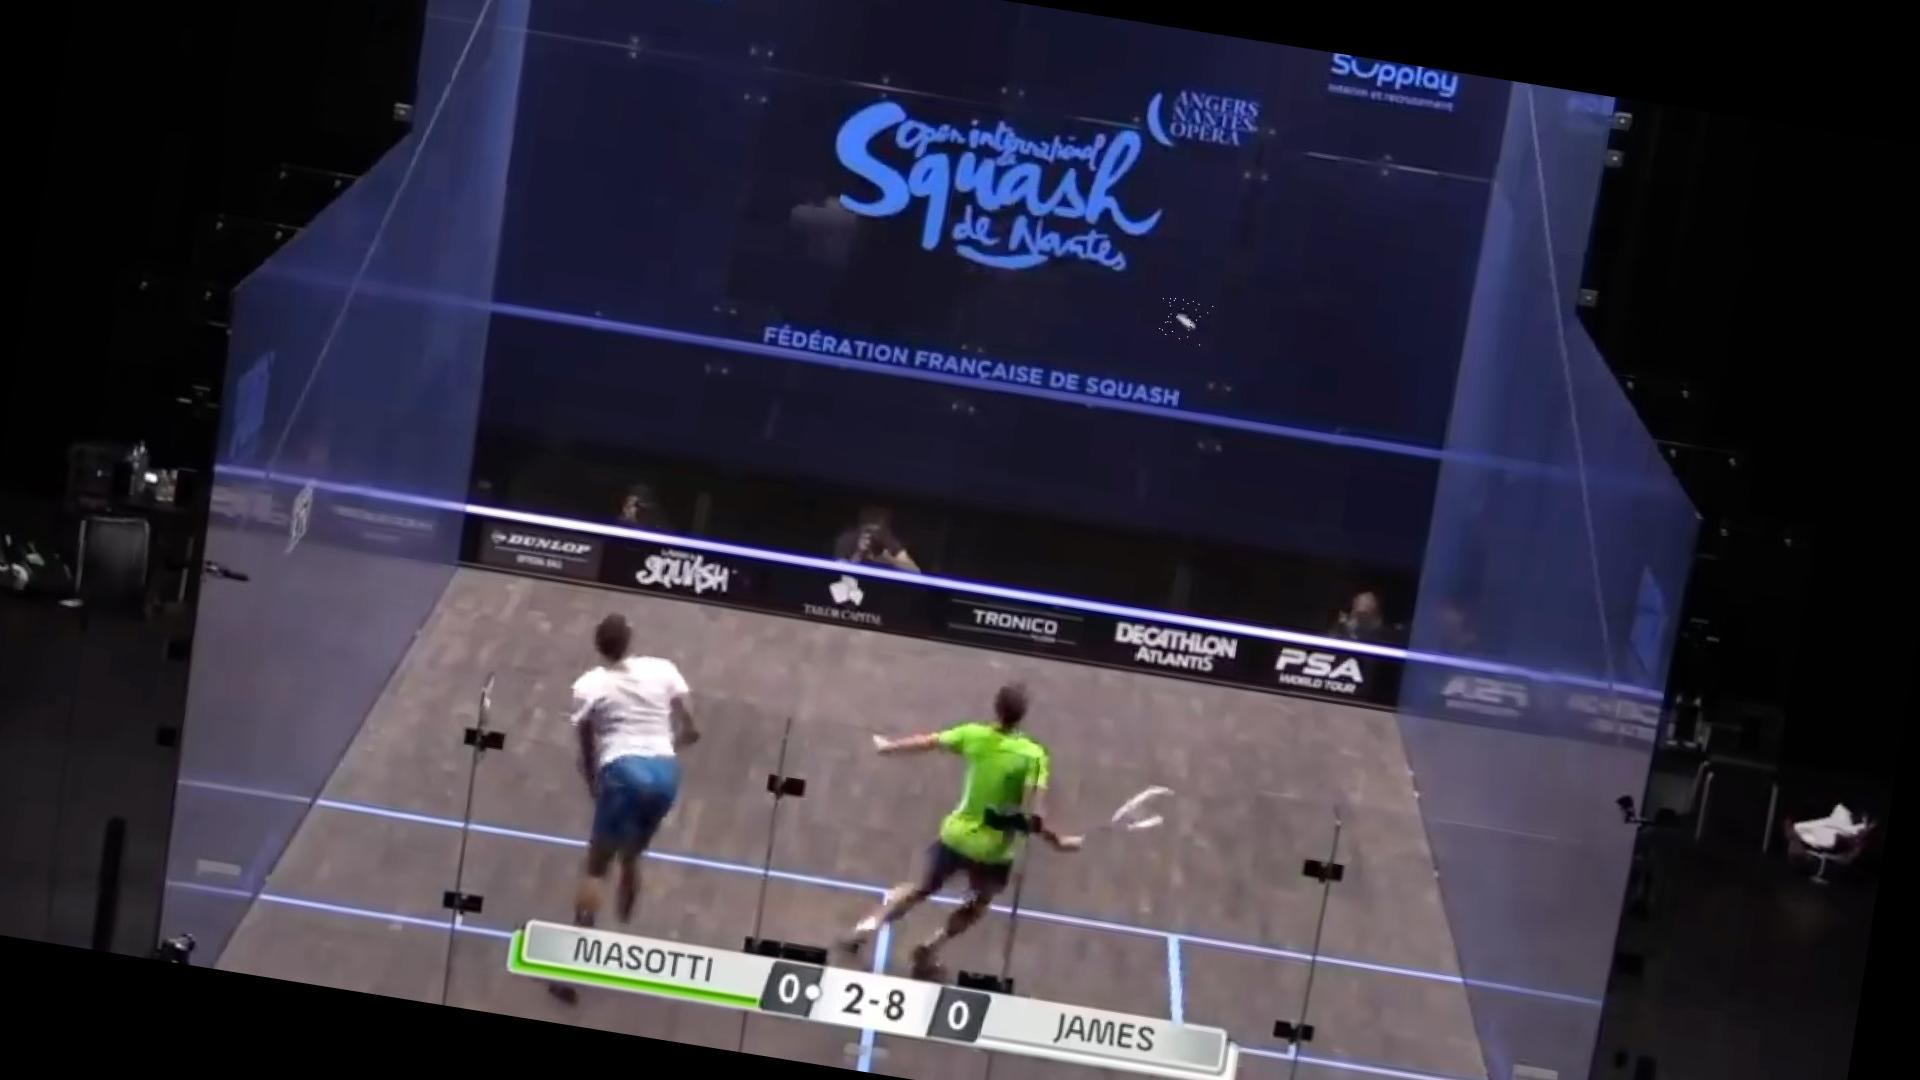Squash-Ball: (1154, 295, 1215, 348)
